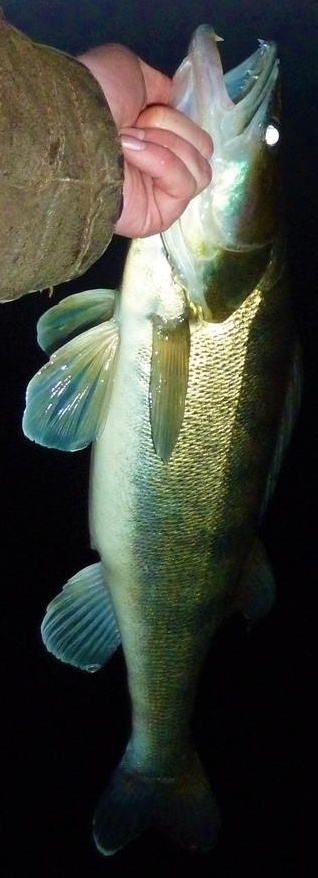Sander lucioperca: (20, 20, 298, 858)
